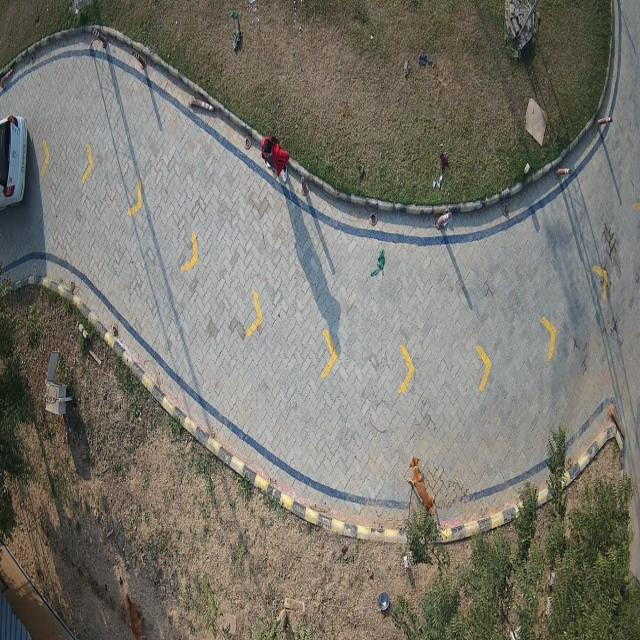car: (0, 116, 28, 210)
